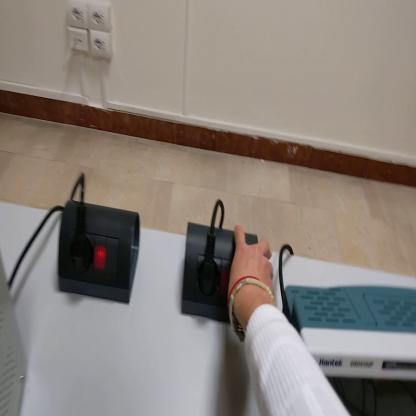hand: (227, 223, 277, 326)
oscilloscope: (284, 280, 416, 413)
power supply: (2, 250, 28, 416)
socket: (56, 203, 143, 309), (184, 224, 260, 329)
